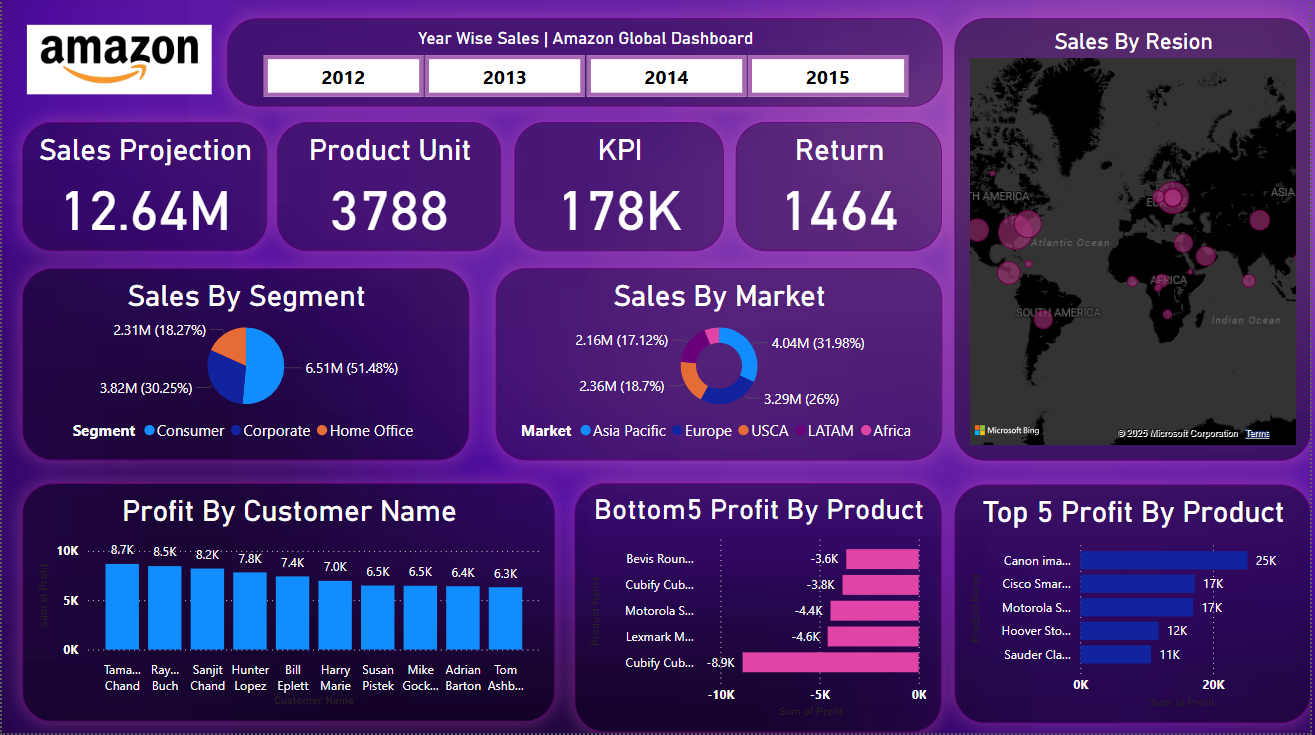

The dashboard page shown, as its layout file describes it:
{"tool":"powerbi","page":{"name":"Page 1","canvas":[1280,720],"ordinal":0},"visuals":[{"type":"slicer","title":"Year Wise Sales | Amazon Global Dashboard","fields":{"Values":["Orders.Year"]},"box":[219.6,20.6,699.8,86.4],"z":0},{"type":"card","title":"Sales Projection","fields":{"Values":["Orders.Sales"]},"box":[19.2,122.1,240.1,126.2],"z":1},{"type":"image","box":[19.2,0,190.7,122.1],"z":2},{"type":"card","title":"Product Unit","fields":{"Values":["Orders.Product Name"]},"box":[269,122.1,219.6,126.2],"z":3},{"type":"card","title":"KPI","fields":{"Values":["Orders.Quantity"]},"box":[500.9,122.1,204.5,126.2],"z":4},{"type":"card","title":"Return","fields":{"Values":["Orders.Ship Date"]},"box":[717.7,122.1,201.7,126.2],"z":5},{"type":"pieChart","title":"Sales By Segment","fields":{"Category":["Orders.Segment"],"Y":["Orders.Sales"]},"box":[19.6,265.4,437.8,188.3],"z":6},{"type":"donutChart","title":"Sales By Market","fields":{"Y":["Orders.Sales"],"Category":["Orders.Market"]},"box":[483,265.4,436.6,188.3],"z":7},{"type":"columnChart","title":"Profit By Customer Name","fields":{"Category":["Orders.Customer Name"],"Y":["Orders.Profit"]},"box":[19.2,476.2,521.4,233.3],"z":8},{"type":"barChart","title":"Bottom5 Profit By Product","fields":{"Y":["Orders.Profit"],"Category":["Orders.Product Name"]},"box":[559.9,476.2,359.5,244.3],"z":9},{"type":"barChart","title":" Top 5 Profit By Product","fields":{"Category":["Orders.Product Name"],"Y":["Orders.Profit"]},"box":[931.8,476.9,348.5,233.6],"z":10},{"type":"map","title":"Sales By Resion","fields":{"Size":["Orders.Sales"],"Category":["Orders.Region"]},"box":[931.8,20.8,348.5,432.9],"z":11}]}

Visuals, with their boxes in screenshot pixels (x1, y1, x2, y2), scaled from the page's 1280x720 canvas onto the 1315x735 screenshot:
"Year Wise Sales | Amazon Global Dashboard" slicer: {"x1": 226, "y1": 21, "x2": 945, "y2": 109}
"Sales Projection" card: {"x1": 20, "y1": 125, "x2": 266, "y2": 253}
image: {"x1": 20, "y1": 0, "x2": 216, "y2": 125}
"Product Unit" card: {"x1": 276, "y1": 125, "x2": 502, "y2": 253}
"KPI" card: {"x1": 515, "y1": 125, "x2": 725, "y2": 253}
"Return" card: {"x1": 737, "y1": 125, "x2": 945, "y2": 253}
"Sales By Segment" pieChart: {"x1": 20, "y1": 271, "x2": 470, "y2": 463}
"Sales By Market" donutChart: {"x1": 496, "y1": 271, "x2": 945, "y2": 463}
"Profit By Customer Name" columnChart: {"x1": 20, "y1": 486, "x2": 555, "y2": 724}
"Bottom5 Profit By Product" barChart: {"x1": 575, "y1": 486, "x2": 945, "y2": 734}
" Top 5 Profit By Product" barChart: {"x1": 957, "y1": 487, "x2": 1314, "y2": 725}
"Sales By Resion" map: {"x1": 957, "y1": 21, "x2": 1314, "y2": 463}
